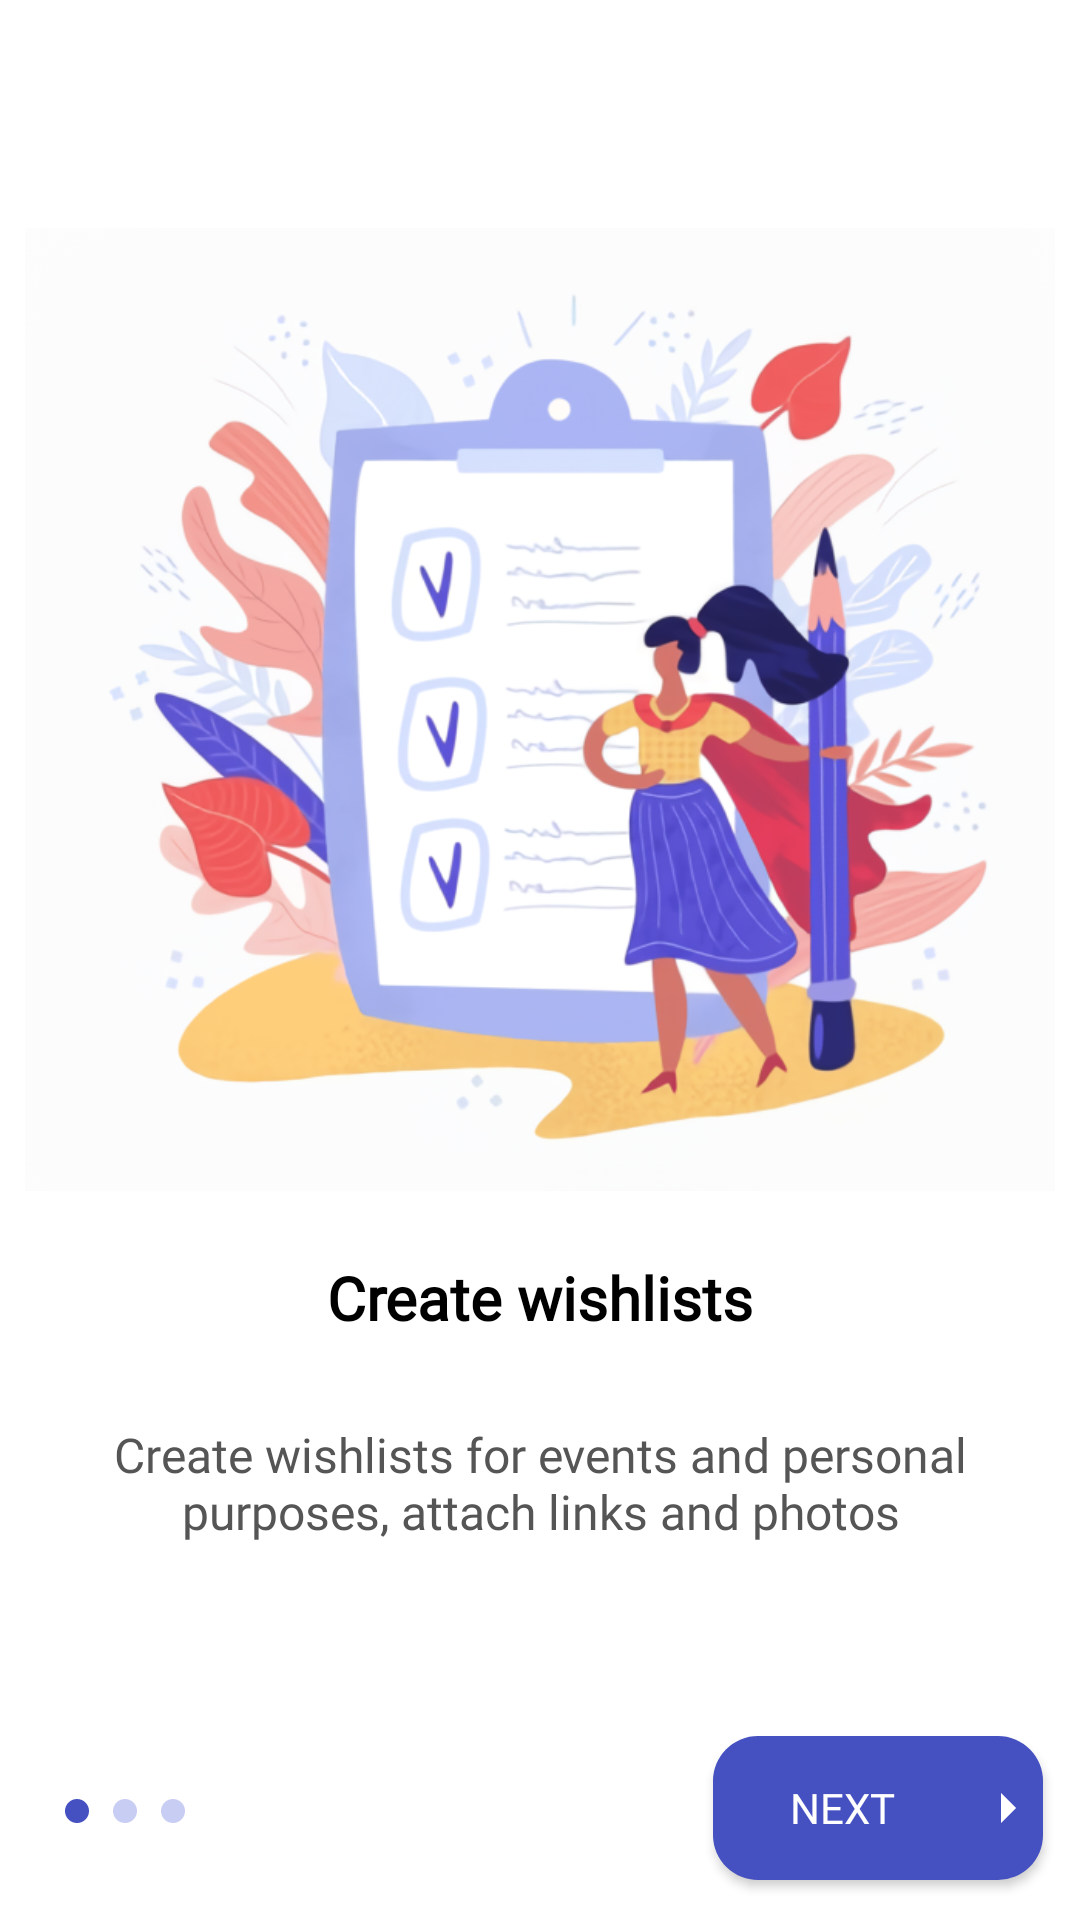

Icon bounding boxes for this 1080 x 1920 phone screenshot, format [x1=x1, y1=y1, x2=x2, y2=y2]:
onboarding count: [x1=65, y1=1799, x2=185, y2=1823]
